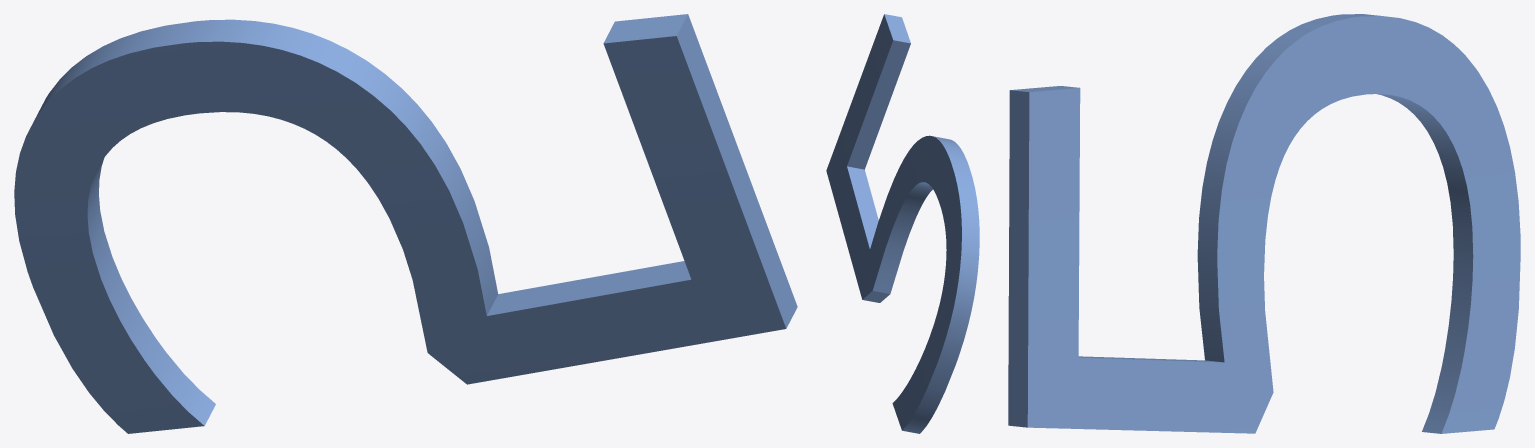
File: New_Number_5.gltf
3 renders of one model, left to right at view 1: azimuth 30°, elevation 25°; view 2: azimuth 150°, elevation 25°; view 3: azimuth 270°, elevation 25°, orthographic. The views are drawn at different scales.
Parts seen in each view (by area): view 1: Part 383; view 2: Part 383; view 3: Part 383.
Part boxes in pixels (bbox=[...]): Part 383: bbox=[14, 14, 797, 433]; Part 383: bbox=[826, 14, 979, 433]; Part 383: bbox=[1008, 14, 1520, 433].
Bounding box in the file's own units: 0.00446 × 0.00423 × 0.00415.
